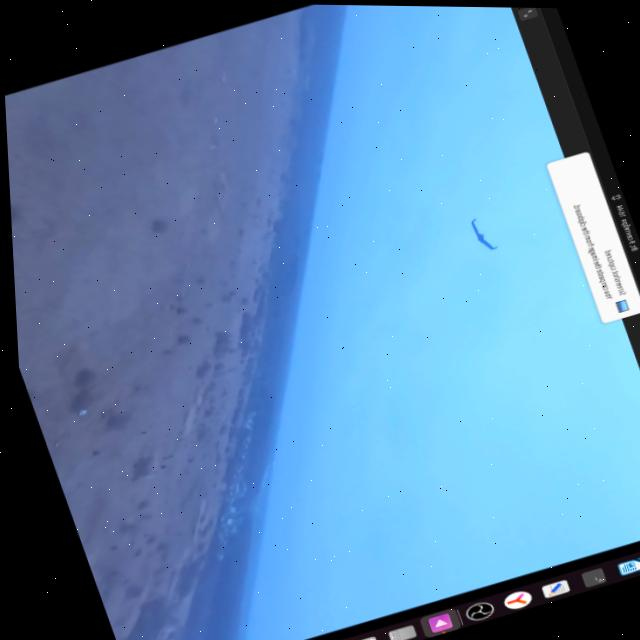planedrone: (465, 212, 508, 256)
